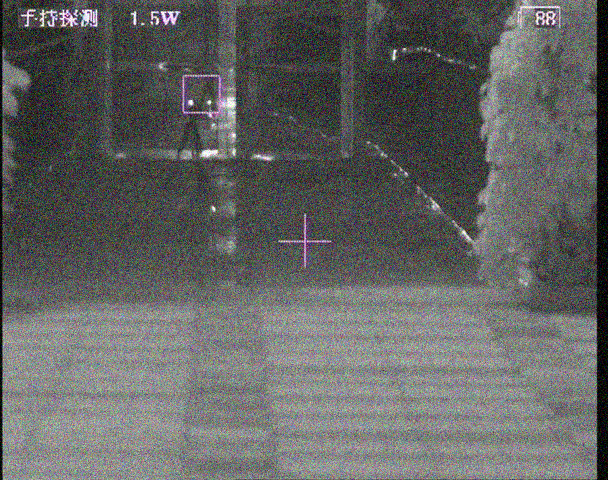my: (187, 99, 194, 107)
